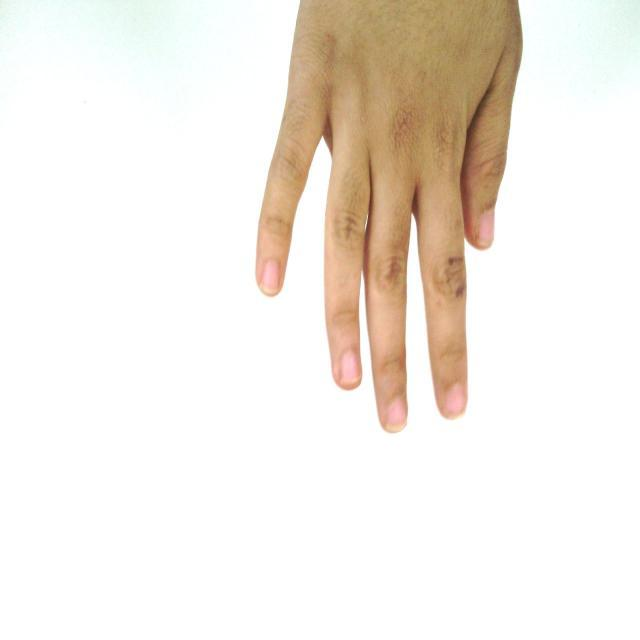Fingernail: (444, 384, 465, 417), (340, 352, 359, 384), (261, 261, 279, 293), (386, 399, 405, 429), (478, 210, 494, 245)
